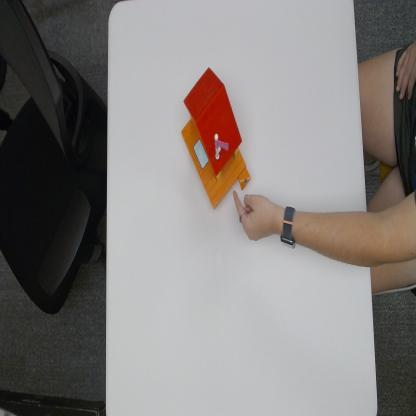Arm: (298, 209, 371, 270)
Hand: (233, 189, 278, 245)
House: (183, 63, 251, 206)
